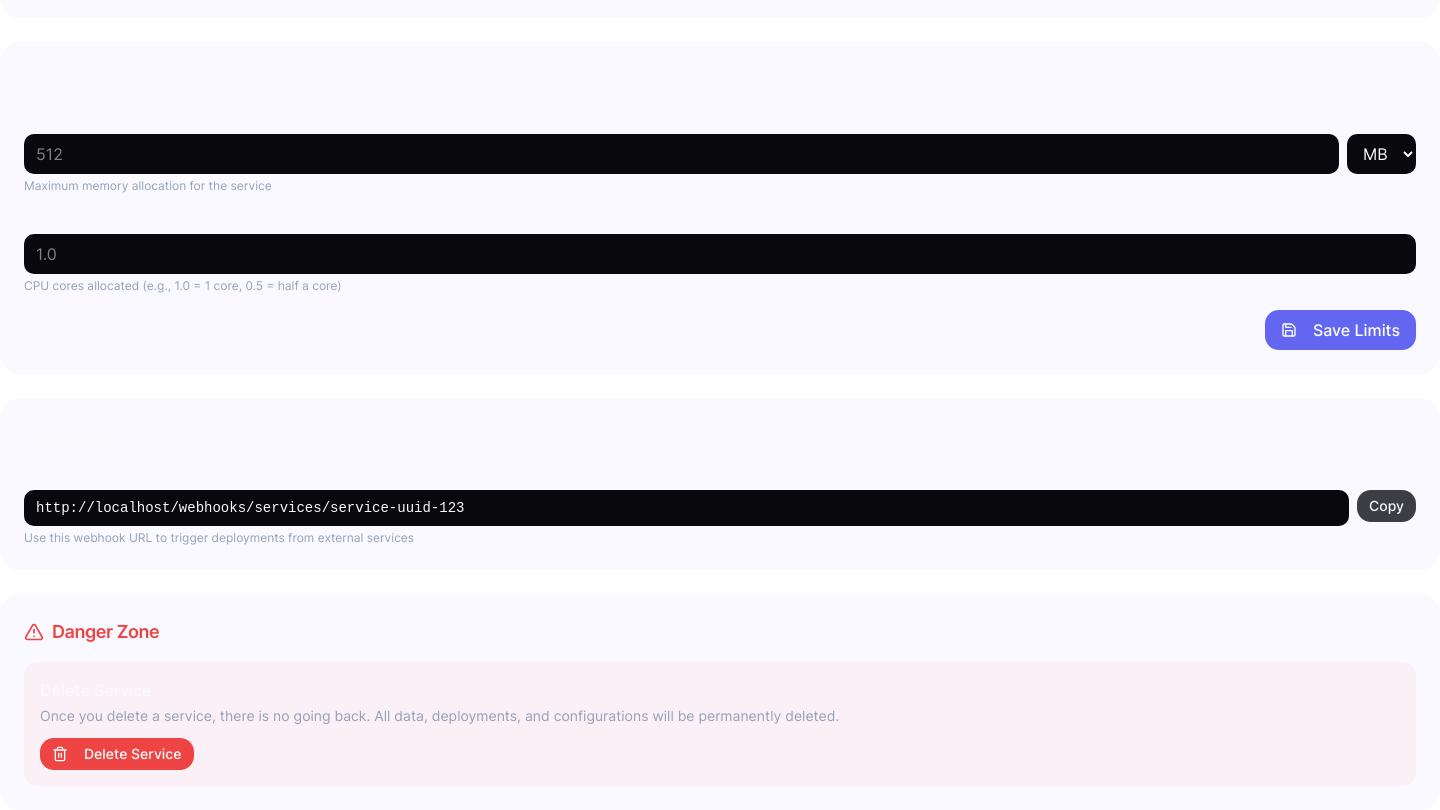
Scenario: Service Settings Page › delete service requires confirmation
The width and height of the screenshot is (1440, 810).
(page scrolled)
Click the button "Delete Service": (117, 754) [40,738,194,770]
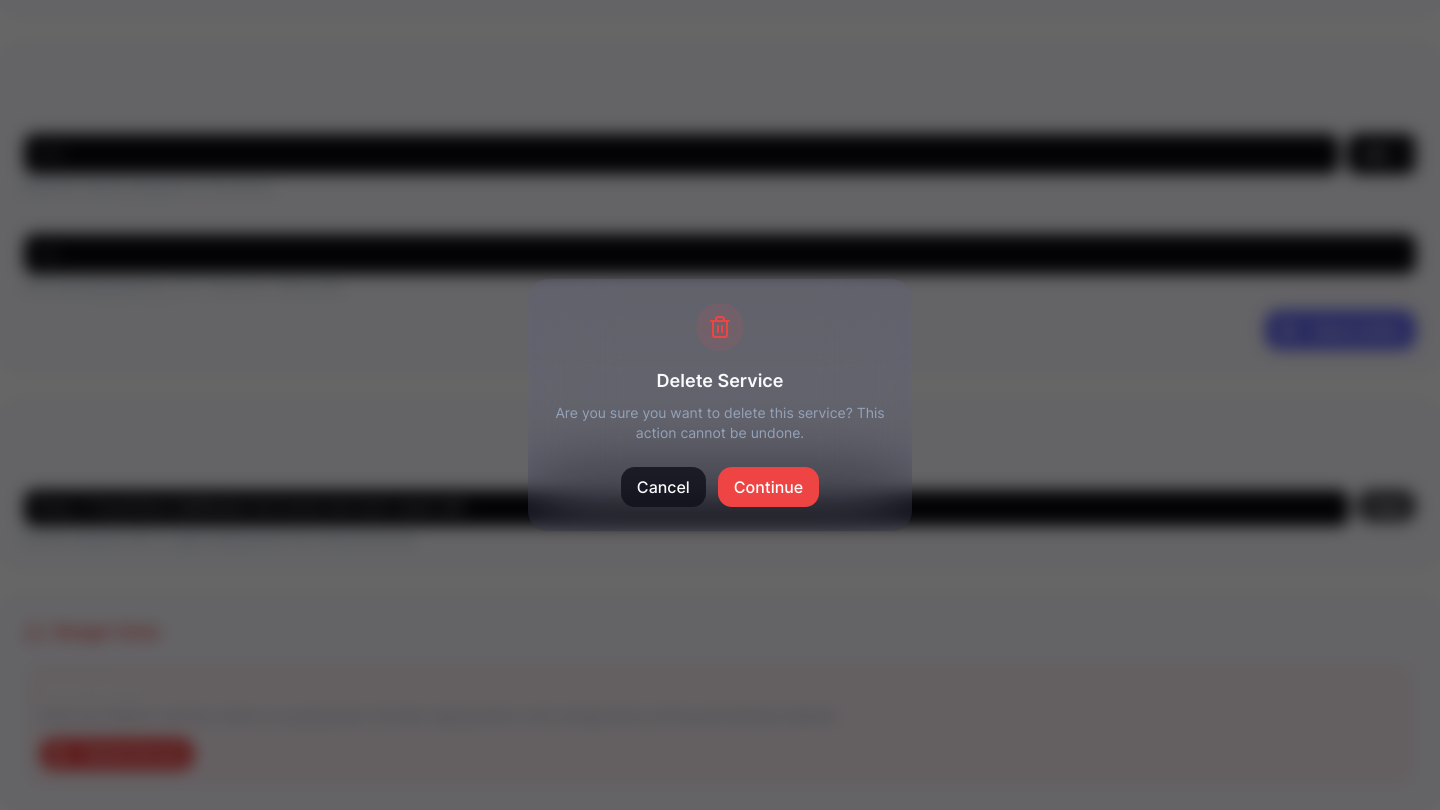
Result: the text "Are you sure you want to delete this service? This action cannot be undone." is shown at [552,403,888,443]
Result: the button "Cancel" is shown at [621,467,706,507]
Result: the button "Continue" is shown at [718,467,819,507]
